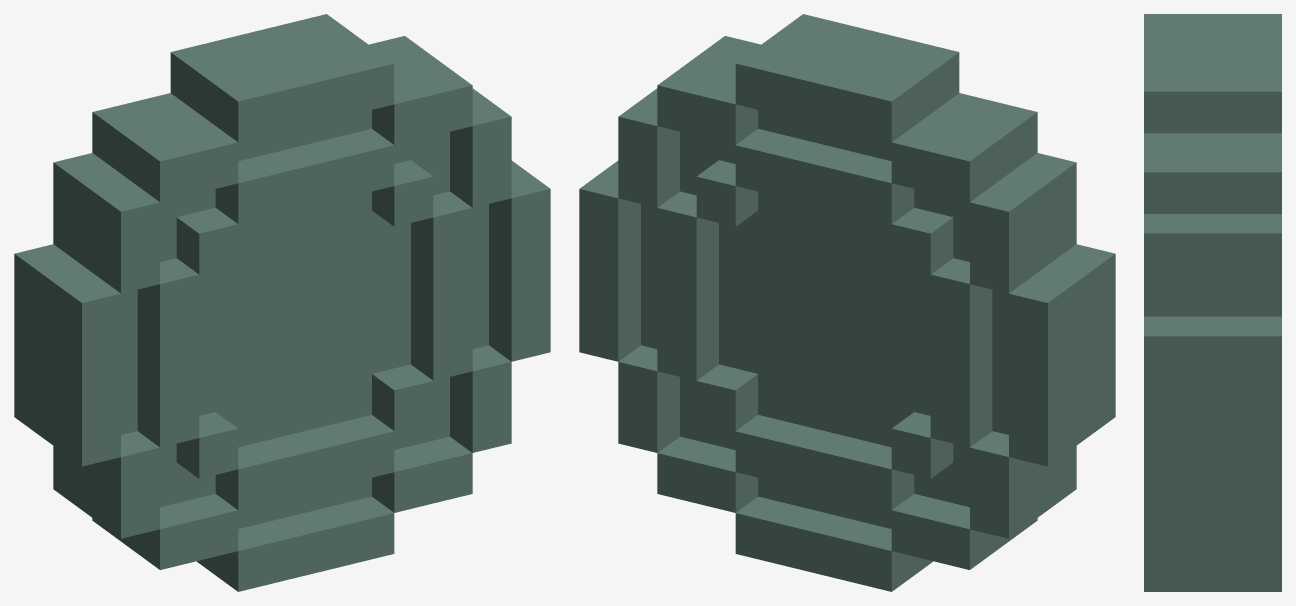
File: Coin_Big_2.glb
The picture shows the model from 3 angles, left to right: view 1: azimuth 30°, elevation 25°; view 2: azimuth 150°, elevation 25°; view 3: azimuth 270°, elevation 25°; orthographic projection. The views are drawn at different scales.
Visible parts, largest first — view 1: Coin_Big_2; view 2: Coin_Big_2; view 3: Coin_Big_2.
Boxes of the visible parts, x1,y1,x2,y2 form: Coin_Big_2: [14, 14, 550, 591]; Coin_Big_2: [579, 14, 1115, 591]; Coin_Big_2: [1144, 14, 1281, 591].
Size of the model in its own units: 0.3 by 0.3 by 0.075.
